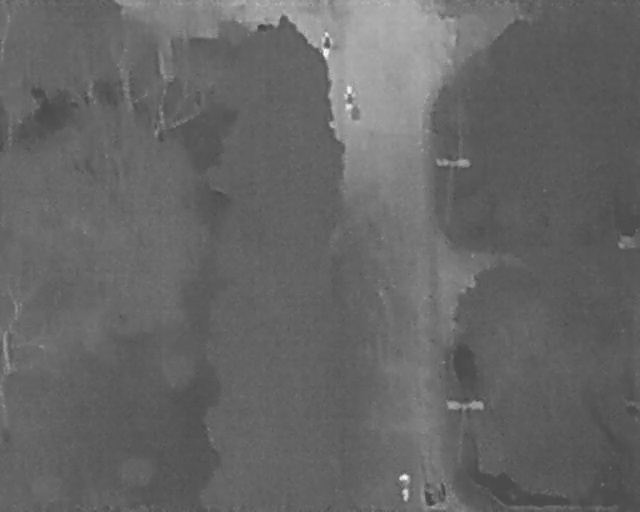Person: (342, 83, 358, 117), (397, 469, 413, 503), (319, 30, 334, 60)
